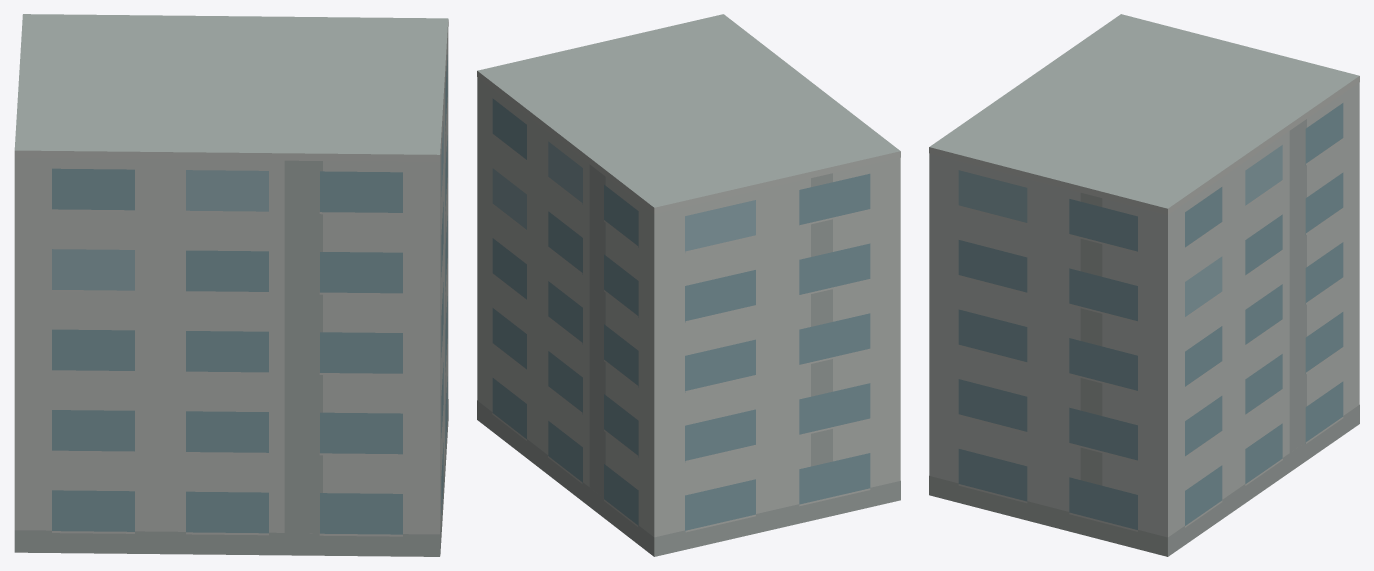
Rendered from survey-upis-32832803.glb.
The picture shows the model from 3 angles, left to right: view 1: azimuth 30°, elevation 25°; view 2: azimuth 150°, elevation 25°; view 3: azimuth 270°, elevation 25°; orthographic projection. The views are drawn at different scales.
Visible parts, largest first — view 1: survey-upis-32832803.tmp; view 2: survey-upis-32832803.tmp; view 3: survey-upis-32832803.tmp.
Boxes of the visible parts, x1=… form: survey-upis-32832803.tmp: x1=14, y1=14, x2=448, y2=556; survey-upis-32832803.tmp: x1=477, y1=14, x2=900, y2=556; survey-upis-32832803.tmp: x1=929, y1=14, x2=1359, y2=556.
Size of the model in its own units: 15.84 by 13.2 by 14.8.
